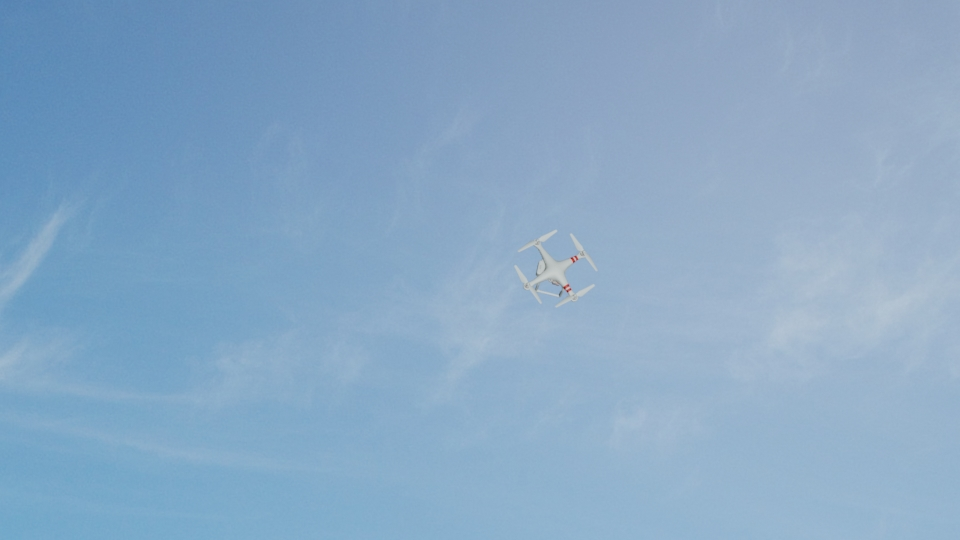drone: (514, 228, 598, 304)
